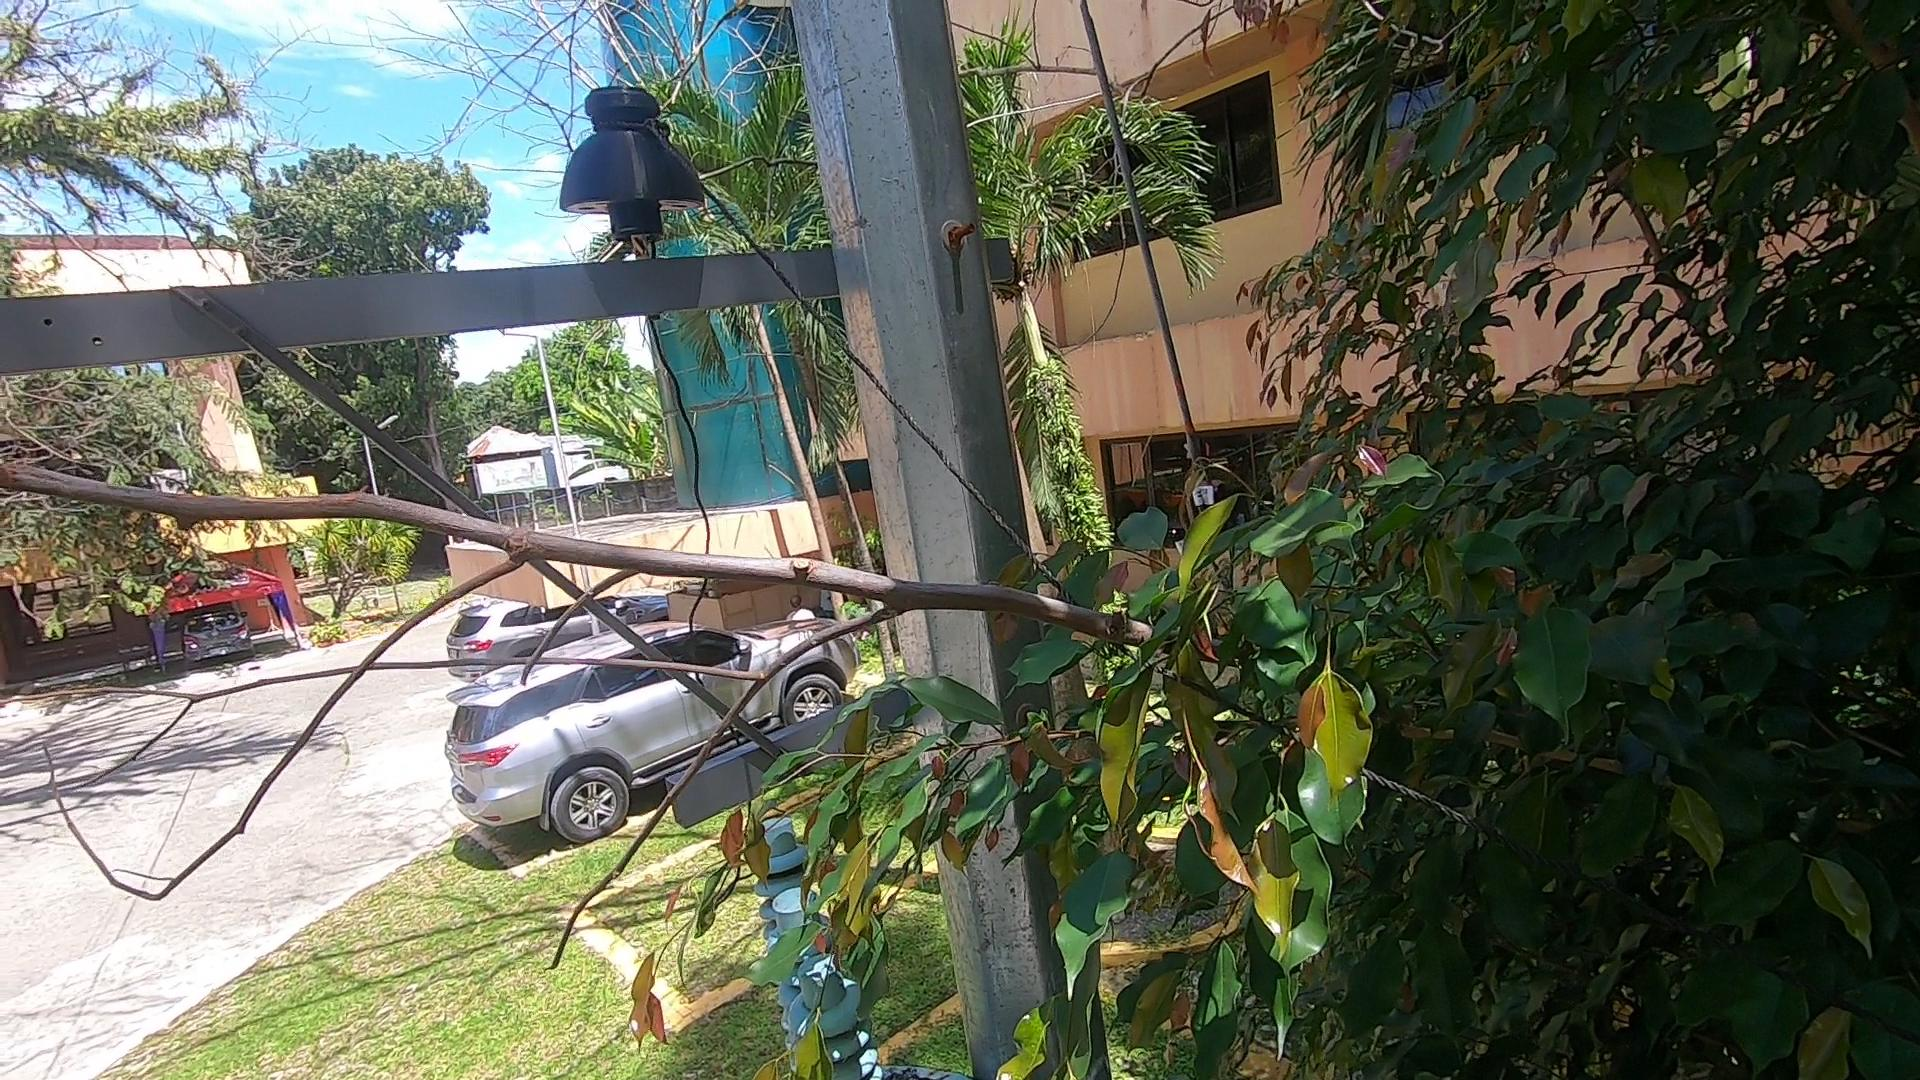tree branch: (1, 462, 1246, 993)
